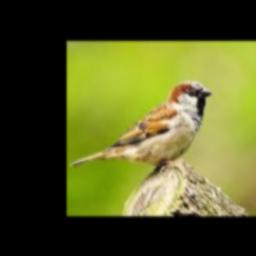Sparrow: (69, 80, 213, 175)
